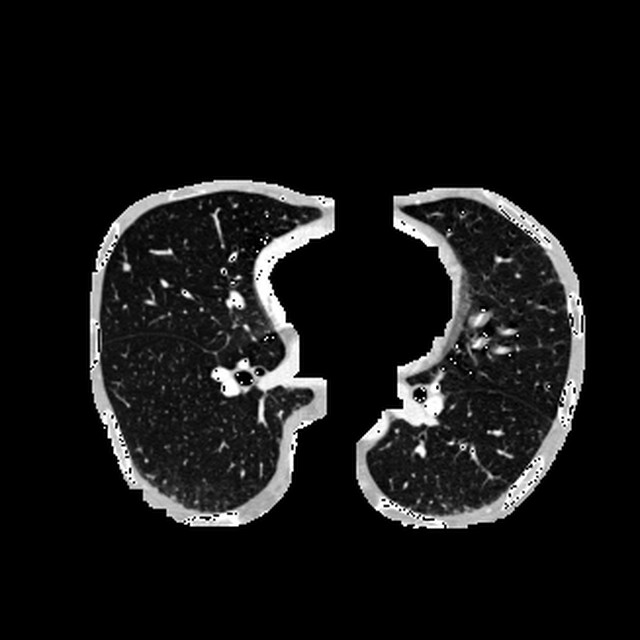PN: (121, 262, 129, 270)
